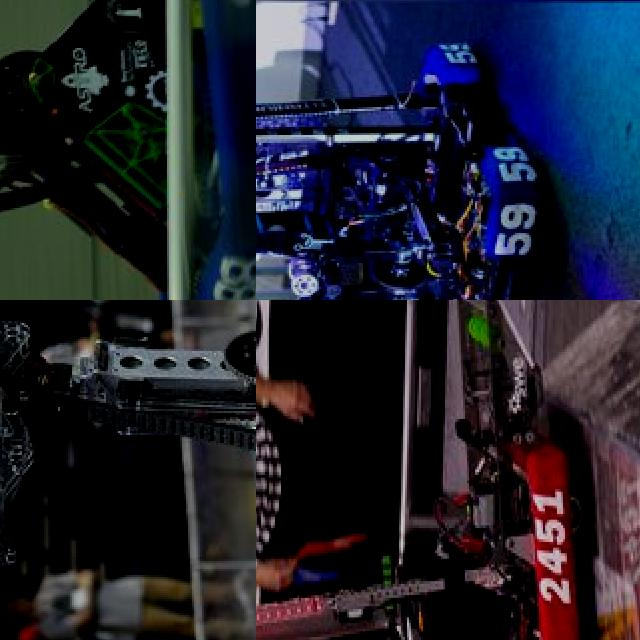FRC-Robots: (256, 373, 606, 640), (0, 300, 256, 640), (256, 24, 556, 300), (0, 0, 256, 300)
